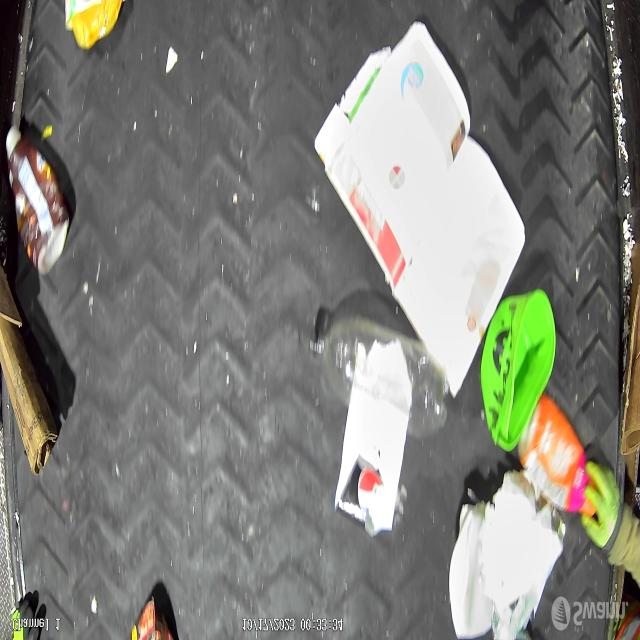non_white_jug: (482, 288, 557, 449), (6, 125, 68, 276), (518, 398, 596, 514)
plastic_bottle: (310, 310, 452, 427)
